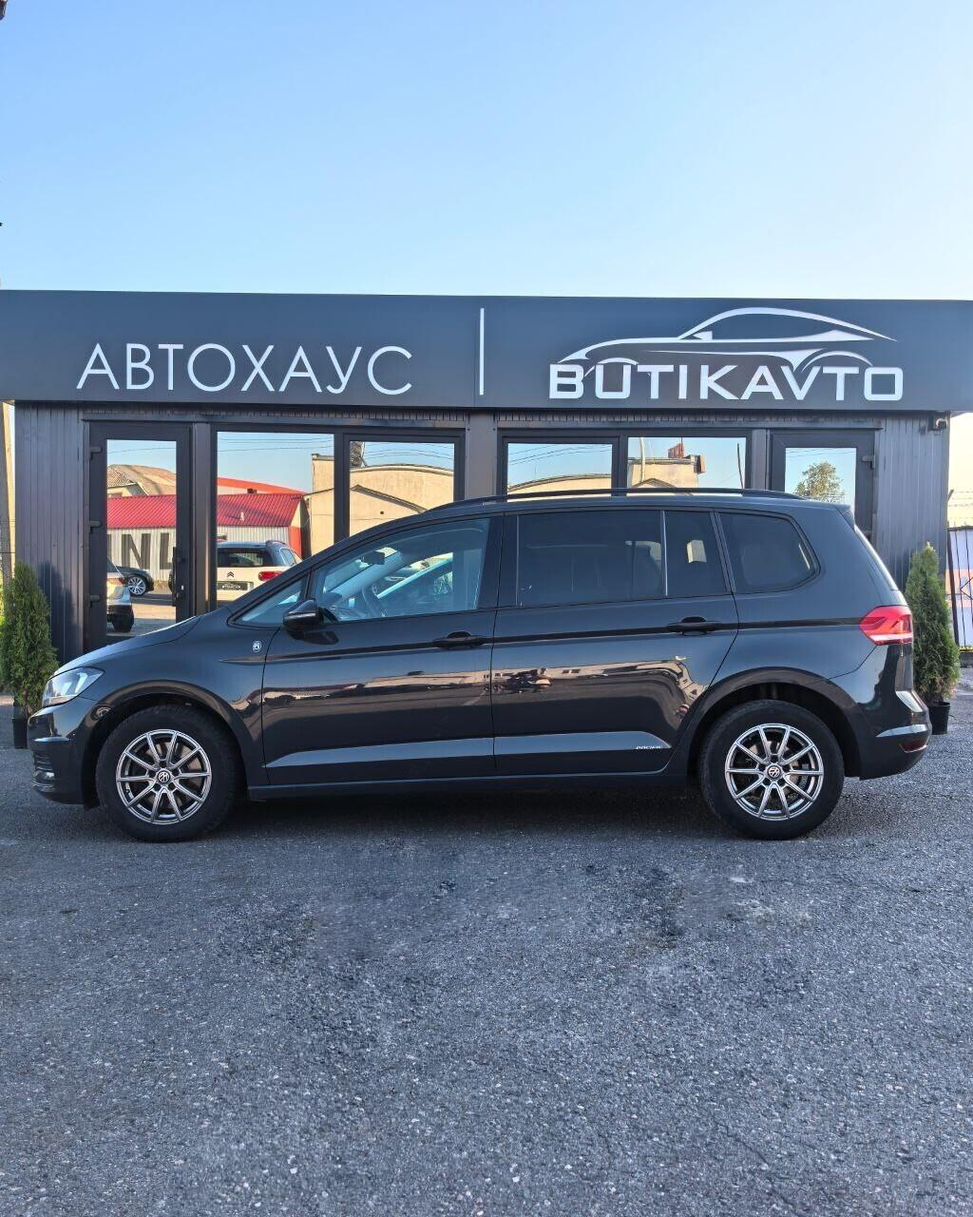Touran_2015: (30, 485, 931, 843)
